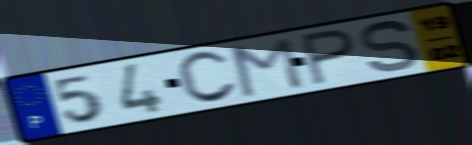4: (117, 60, 168, 116)
5: (53, 71, 107, 126)
C: (175, 49, 241, 106)
M: (229, 35, 307, 100)
P: (298, 27, 359, 88)
S: (358, 19, 422, 73)
